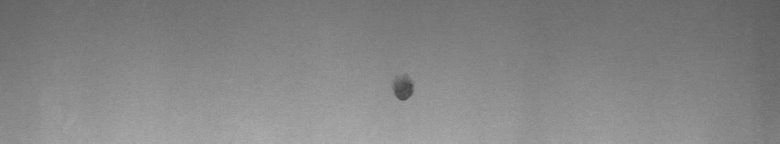fi: (388, 69, 420, 108)
